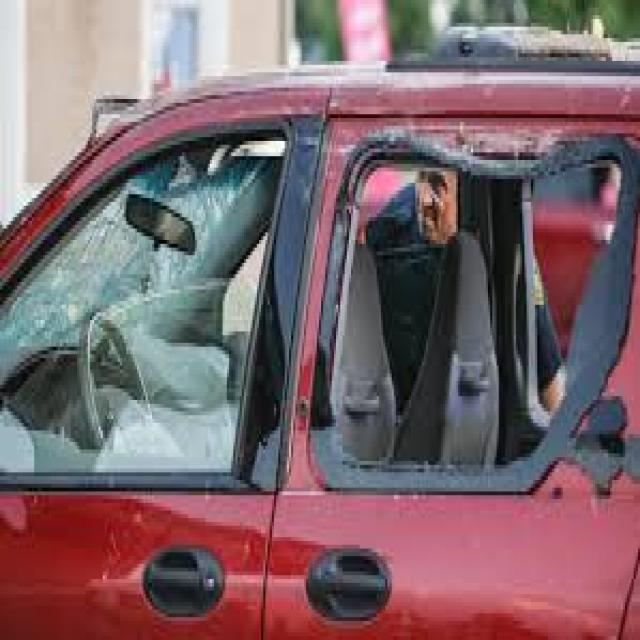minor: (318, 100, 599, 506)
